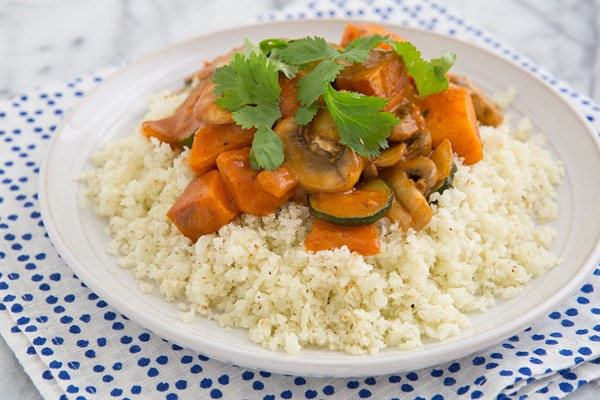plain rice: (141, 202, 529, 345), (460, 132, 552, 244)
